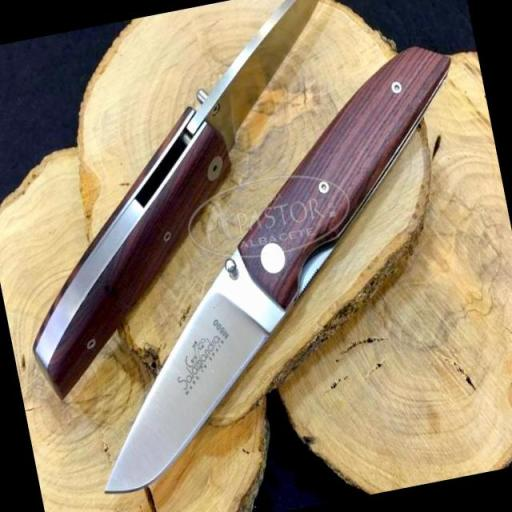knife: (52, 227, 325, 503)
